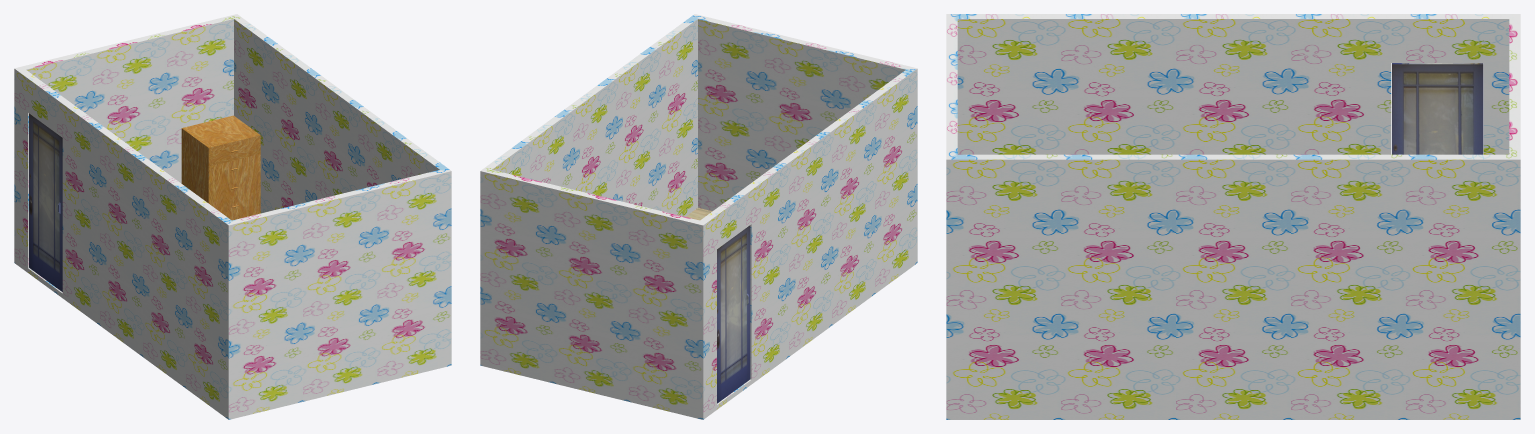
Rendered from room.glb.
3 views of the same model, side by side, from view 1: azimuth 30°, elevation 25°; view 2: azimuth 150°, elevation 25°; view 3: azimuth 270°, elevation 25° (orthographic). The views are drawn at different scales.
Visible parts, largest first — view 1: Object_6, Object_4, Object_8, Object_3; view 2: Object_6, Object_8; view 3: Object_6, Object_8.
Boxes of the visible parts, x1,y1,x2,y2 form: Object_6: (14,14,451,419); Object_4: (181,115,259,220); Object_8: (29,113,62,291); Object_3: (207,134,260,213); Object_6: (480,14,917,419); Object_8: (717,225,750,403); Object_6: (946,14,1520,419); Object_8: (1392,63,1483,154).
Bounding box in the file's own units: 3009 × 2500 × 5000.
Materials: 5 (5 with a texture image).
